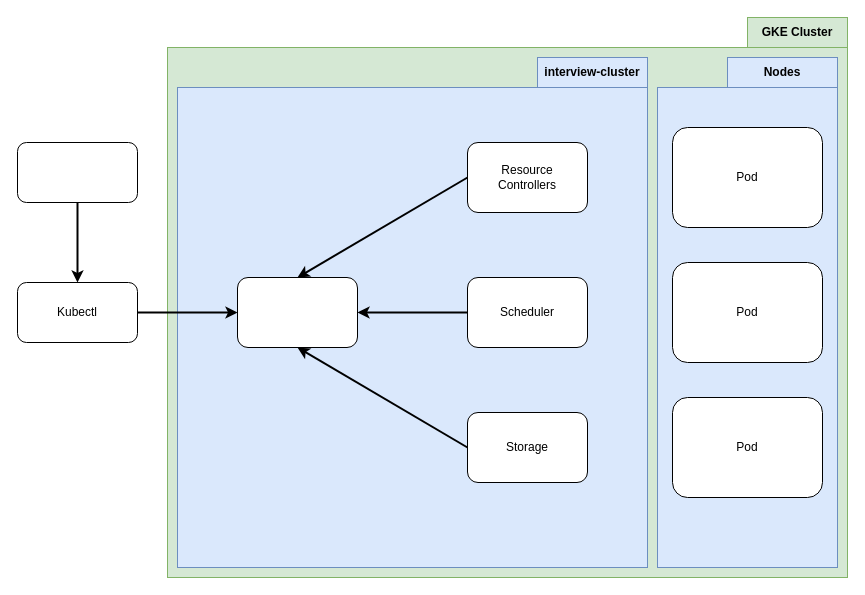
The diagram is 865 pixels wide and 595 high, and some of its shapes have lost their labels. The box of each missing label's shape, as (x1, y1, x2, y2) in pixels:
API Server: (236, 276, 358, 348)
User: (16, 142, 138, 202)
